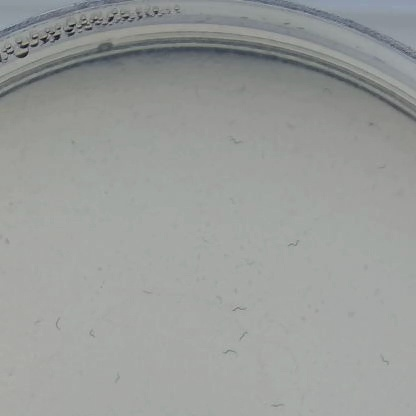worm: (377, 340, 408, 372), (131, 280, 162, 304), (45, 311, 66, 340), (376, 154, 405, 174), (230, 327, 266, 343), (283, 229, 304, 256), (107, 366, 129, 391), (219, 304, 249, 321), (218, 131, 243, 151), (264, 395, 292, 412), (215, 351, 241, 366), (81, 326, 97, 343)
